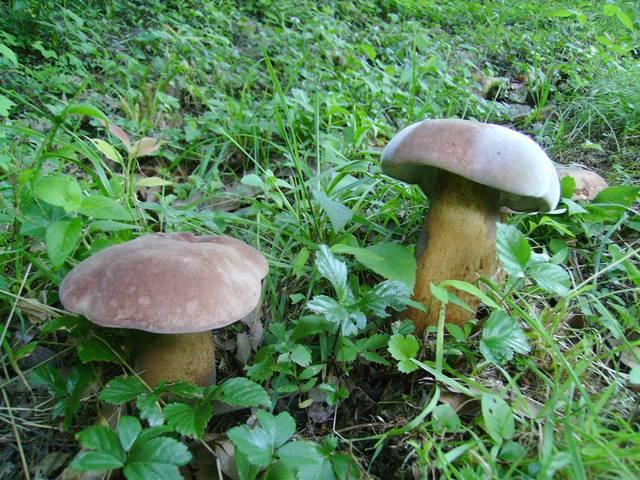poisonous_mushroom: (378, 116, 561, 338), (57, 229, 269, 416)
